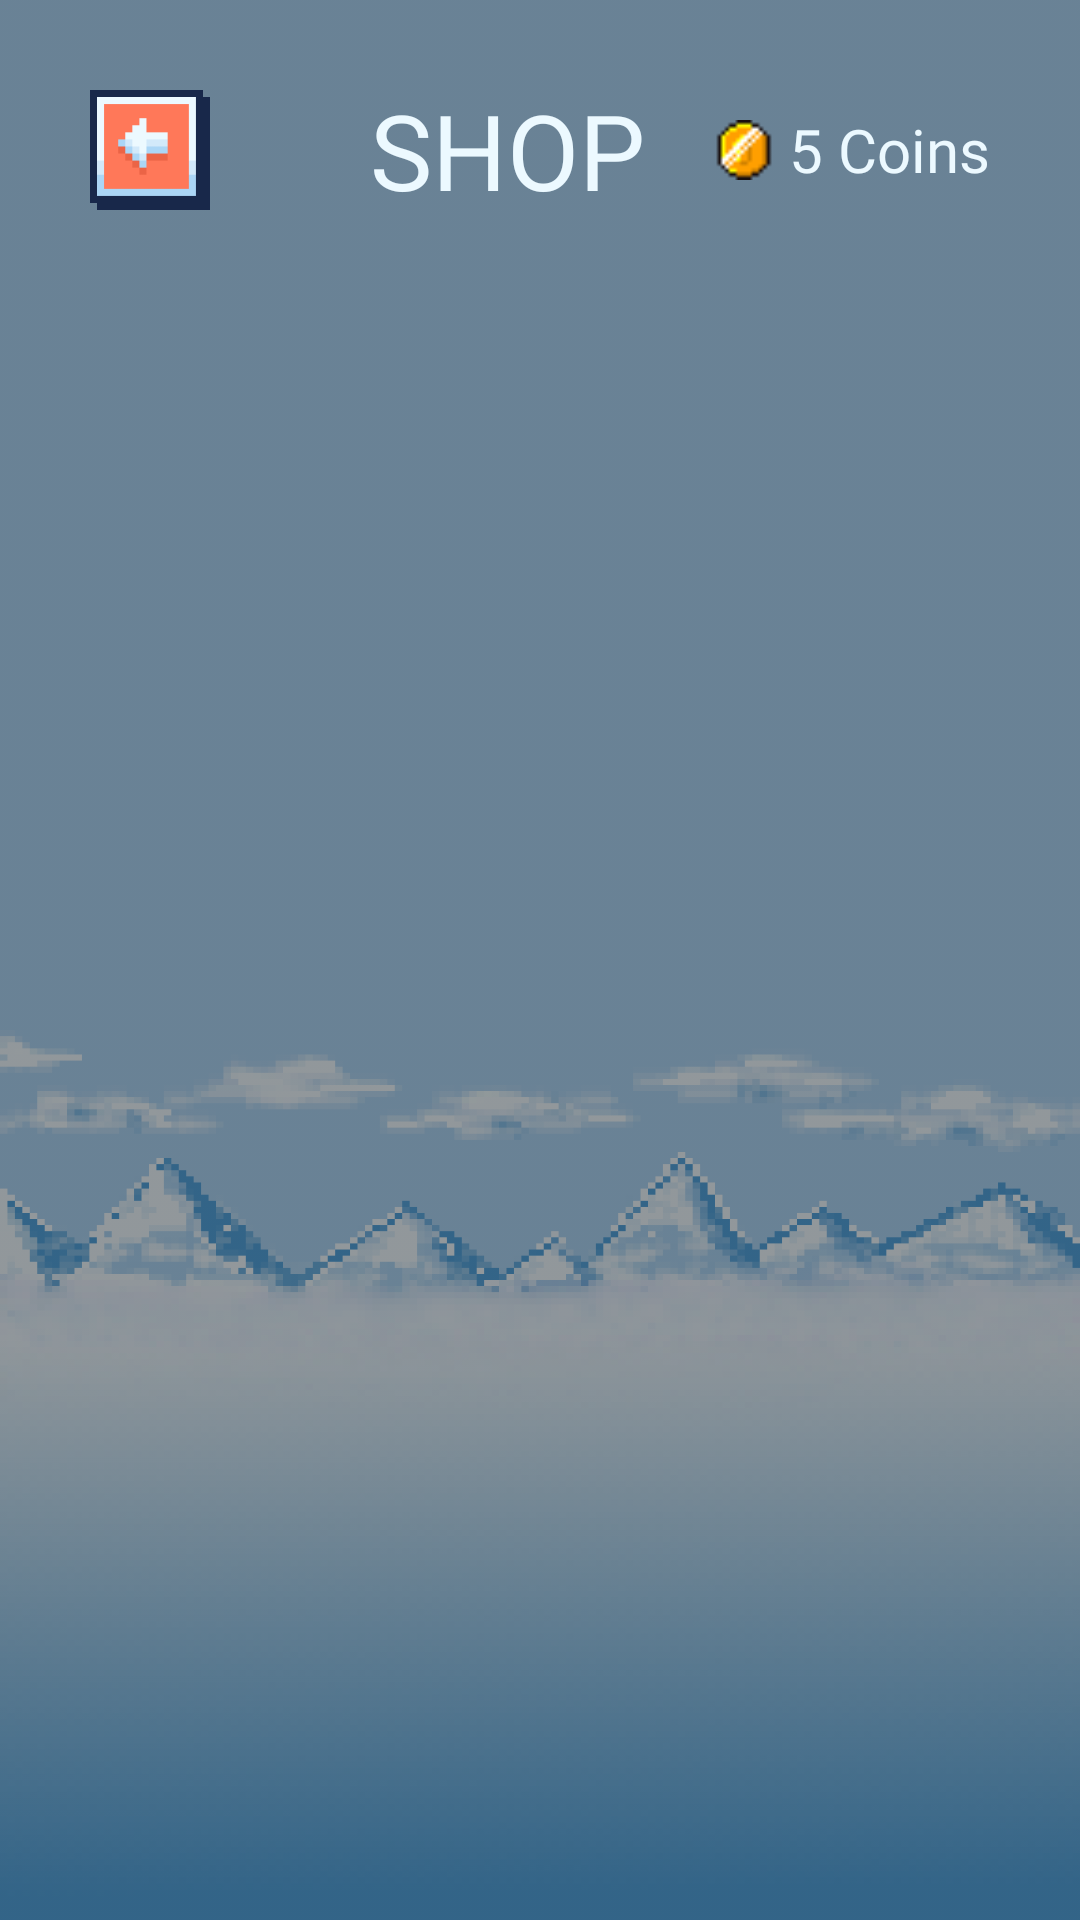

Icons on this 1080 × 1920 Android screen, each with the point to tap as [x,y]:
back: [150,150]
